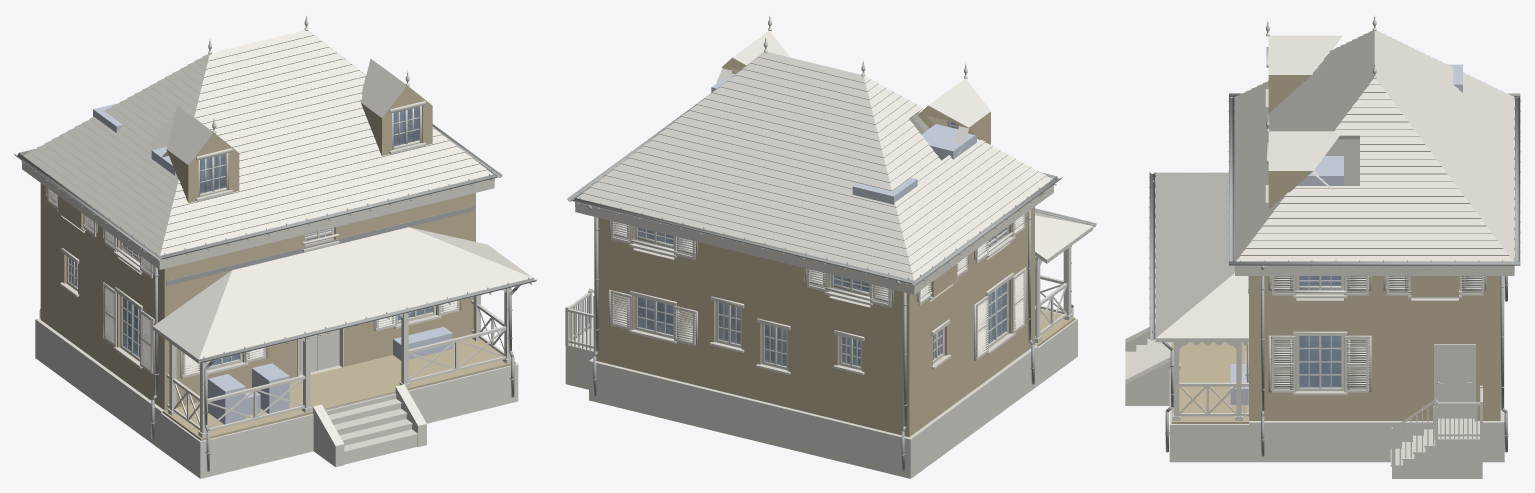
File: fond_h12.glb
3 views of the same model, side by side, from view 1: azimuth 30°, elevation 25°; view 2: azimuth 150°, elevation 25°; view 3: azimuth 270°, elevation 25° (orthographic).
Parts seen in each view (by area): view 1: Roof_Main, Walls_Shell, Roof_Veranda, Plinth_Basalt, Arch_white_peeling_timber, Veranda_Deck, steel_painted_worn_details, Arch_basalt_dressed, white_peeling_timber_details, Arch_glass, glass_details, Arch_galvanized_steel (+4 smaller); view 2: Roof_Main, Walls_Shell, Plinth_Basalt, Arch_white_peeling_timber, steel_painted_worn_details, white_peeling_timber_details, Arch_glass, glass_details, Roof_Veranda, Arch_basalt_dressed, Ph_bedroom_ceiling_fan_01, Ph_bedroom3_ceiling_fan_01 (+1 smaller); view 3: Roof_Main, Walls_Shell, Roof_Veranda, Arch_white_peeling_timber, Plinth_Basalt, Arch_basalt_dressed, steel_painted_worn_details, Veranda_Deck, white_peeling_timber_details, DoorLeaf_06_R_in, Arch_glass, glass_details (+3 smaller).
Boxes of the visible parts, box(x1,y1,x2,y2) form: Roof_Main: box(21, 30, 494, 269); Walls_Shell: box(40, 86, 475, 410); Roof_Veranda: box(153, 227, 532, 363); Plinth_Basalt: box(35, 318, 518, 478); Arch_white_peeling_timber: box(47, 107, 511, 437); Veranda_Deck: box(163, 338, 515, 440); steel_painted_worn_details: box(14, 72, 536, 471); Arch_basalt_dressed: box(313, 384, 426, 467); white_peeling_timber_details: box(46, 14, 461, 378); Arch_glass: box(69, 108, 432, 366); glass_details: box(124, 107, 431, 364); Arch_galvanized_steel: box(166, 206, 474, 285); Roof_Main: box(575, 31, 1053, 294); Walls_Shell: box(594, 57, 1034, 437); Plinth_Basalt: box(589, 319, 1077, 478); Arch_white_peeling_timber: box(565, 121, 1072, 375); steel_painted_worn_details: box(567, 98, 1096, 471); white_peeling_timber_details: box(608, 15, 1026, 374); Arch_glass: box(637, 122, 1006, 366); glass_details: box(638, 122, 1005, 365); Roof_Veranda: box(1035, 212, 1093, 263); Arch_basalt_dressed: box(565, 328, 594, 389); Ph_bedroom_ceiling_fan_01: box(921, 124, 976, 159); Ph_bedroom3_ceiling_fan_01: box(852, 177, 917, 204); Roof_Main: box(1234, 30, 1514, 275); Walls_Shell: box(1249, 75, 1500, 420); Roof_Veranda: box(1155, 172, 1248, 342); Arch_white_peeling_timber: box(1172, 89, 1483, 465); Plinth_Basalt: box(1169, 276, 1504, 462); Arch_basalt_dressed: box(1125, 327, 1482, 478); steel_painted_worn_details: box(1149, 93, 1520, 456); Veranda_Deck: box(1171, 342, 1248, 423); white_peeling_timber_details: box(1247, 15, 1486, 392); DoorLeaf_06_R_in: box(1435, 346, 1474, 418); Arch_glass: box(1299, 276, 1341, 387); glass_details: box(1300, 277, 1340, 386).
Size of the model in its own units: 10.81 by 9.62 by 9.98.
